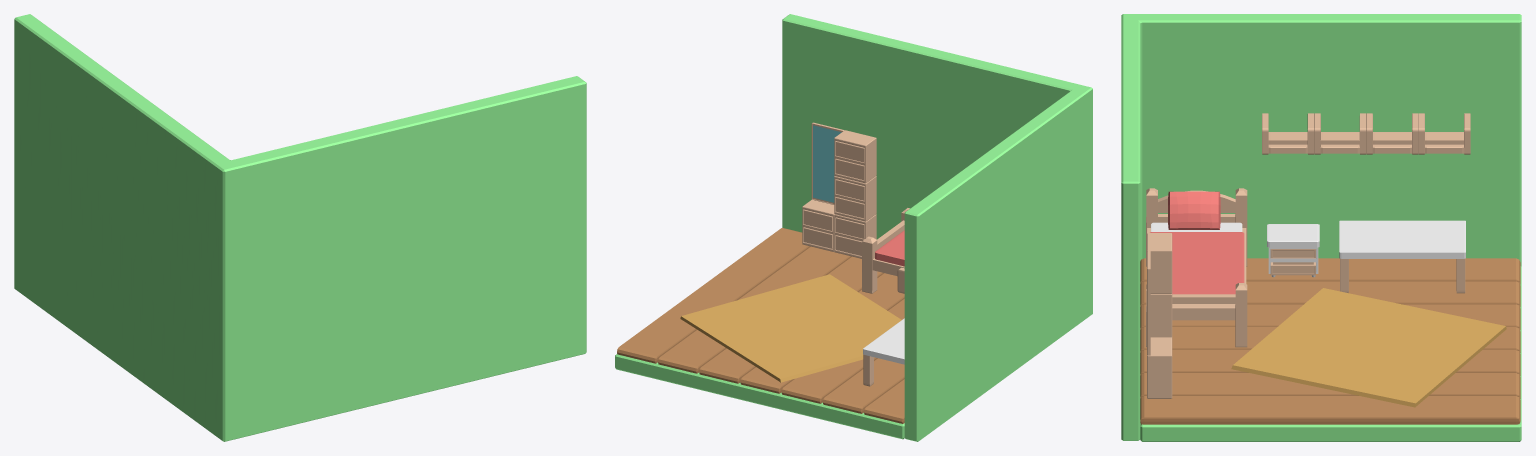
Rendered from bedroom (3).fbx.
3 renders of one model, left to right at view 1: azimuth 30°, elevation 25°; view 2: azimuth 150°, elevation 25°; view 3: azimuth 270°, elevation 25°, orthographic. The views are drawn at different scales.
Parts seen in each view (by area): view 1: Wall; view 2: Wall, Wood floor 1, Plane, Table 1.001, Floor, Table 1.003, Bed 1, Table 1, Bed 1.001; view 3: Wall, Wood floor 1, Plane, Floor, Wall bookshelf.002, Table 1, Bed 1, Bed 1.001, Table 1.001, Cone.003, Bed 1.002.
Boxes of the visible parts, x1,y1,x2,y2 form: Wall: [14, 14, 586, 441]; Wall: [782, 14, 1092, 441]; Wood floor 1: [617, 228, 904, 423]; Plane: [680, 274, 901, 382]; Table 1.001: [802, 122, 876, 258]; Floor: [615, 354, 904, 439]; Table 1.003: [813, 125, 841, 202]; Bed 1: [862, 208, 909, 293]; Table 1: [863, 318, 904, 386]; Bed 1.001: [875, 230, 904, 266]; Wall: [1121, 14, 1521, 440]; Wood floor 1: [1140, 258, 1520, 424]; Plane: [1231, 288, 1506, 407]; Floor: [1140, 266, 1521, 441]; Wall bookshelf.002: [1262, 113, 1470, 154]; Table 1: [1339, 220, 1465, 293]; Bed 1: [1146, 188, 1247, 347]; Bed 1.001: [1150, 232, 1244, 294]; Table 1.001: [1147, 233, 1172, 398]; Cone.003: [1267, 224, 1319, 277]; Bed 1.002: [1168, 191, 1220, 229].
Bounding box in the file's own units: 134 × 96.06 × 134.
